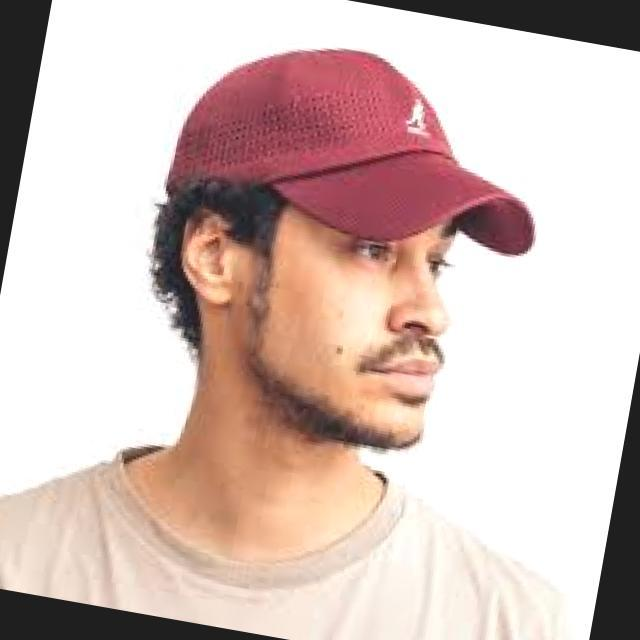cap: (143, 0, 574, 319)
